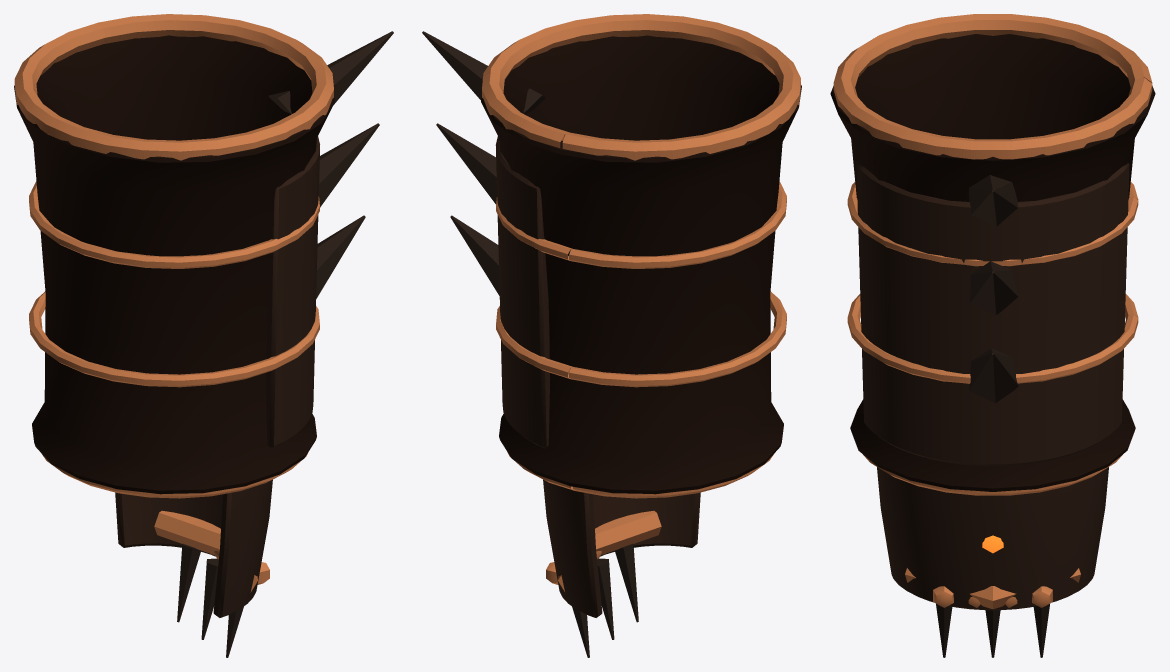
The model's file is asc_elder_wyrm_talon_gloves.glb.
3 views of the same model, side by side, from view 1: azimuth 30°, elevation 25°; view 2: azimuth 150°, elevation 25°; view 3: azimuth 270°, elevation 25° (orthographic).
Parts seen in each view (by area): view 1: asc_elder_wyrm_talon_gloves, AT_hand_L; view 2: asc_elder_wyrm_talon_gloves, AT_hand_L; view 3: asc_elder_wyrm_talon_gloves, AT_hand_L.
Part boxes in pixels (<box>): asc_elder_wyrm_talon_gloves: <box>14,14,393,498</box>; AT_hand_L: <box>115,479,272,657</box>; asc_elder_wyrm_talon_gloves: <box>422,14,801,498</box>; AT_hand_L: <box>543,479,700,657</box>; asc_elder_wyrm_talon_gloves: <box>830,14,1155,495</box>; AT_hand_L: <box>877,467,1108,657</box>.
Bounding box in the file's own units: 0.2539 × 0.385 × 0.2004.
